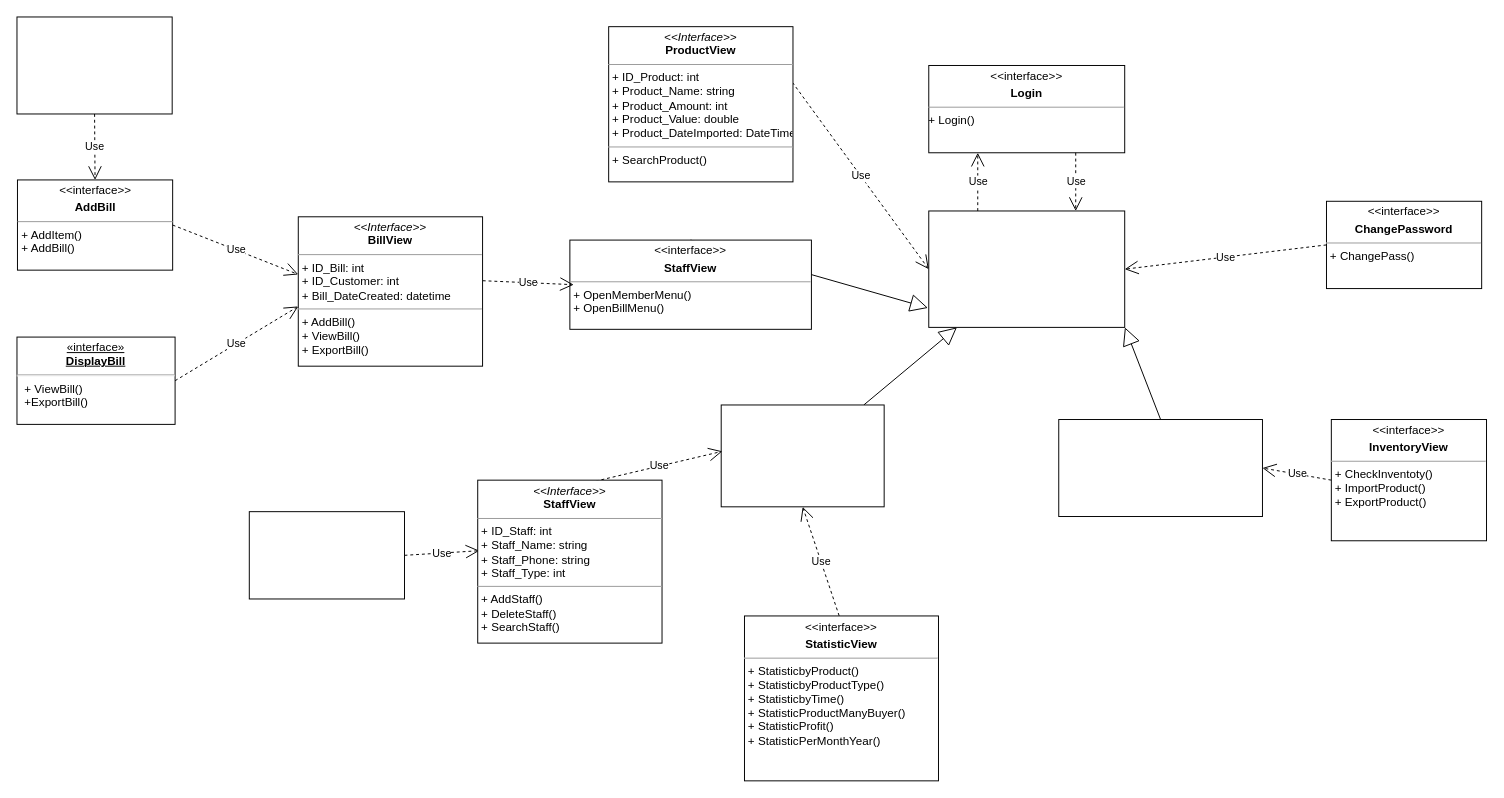
Image size: 1504x798. Some labels were removed from this diagram. Each missing label, with the centre of its shape:
"<<interface>> AddItem + AddItem()" goes at (x=94, y=65).
"<<interface>> Addstaff + AddaStaff()" goes at (x=326, y=555).
"<<interface>> AdministratorView +OpenStaffMenu() +OpenStatisticMenu()" goes at (x=802, y=455).
"<<interface>> WarehouseStaffView + OpenInventoryMenu()" goes at (x=1160, y=468).
"{abstract} MainMenu + OpenChangePass() + Logout() + OpenProductMenu()" goes at (x=1026, y=268).
